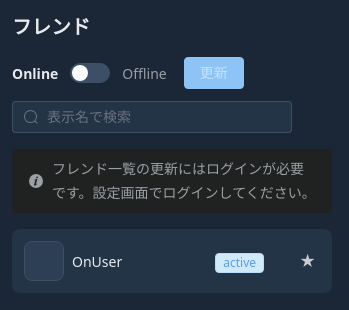
Test: FriendsView › when toggle is on, shows offline friends only
Click the switch named "Offline一覧を表示する（オフのときはOnline）": (90, 73) [70,57,110,89]
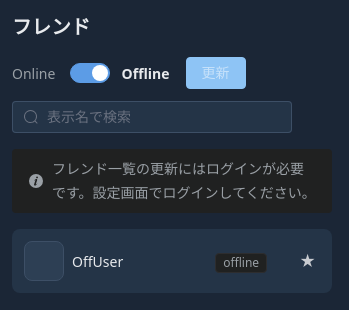
Result: the text "OnUser" is gone
Result: the text "OffUser" is shown at [72,252,123,271]
